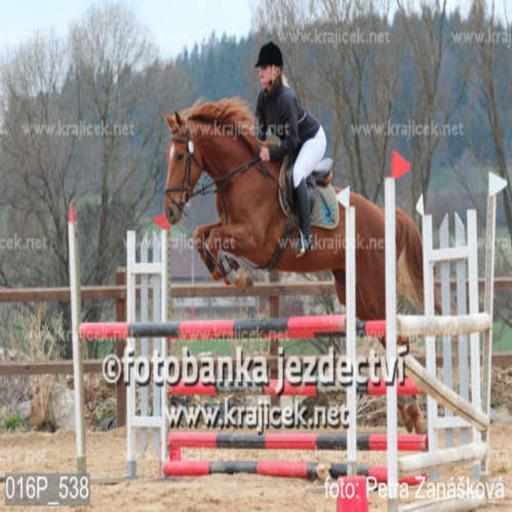horse: (163, 90, 459, 434)
